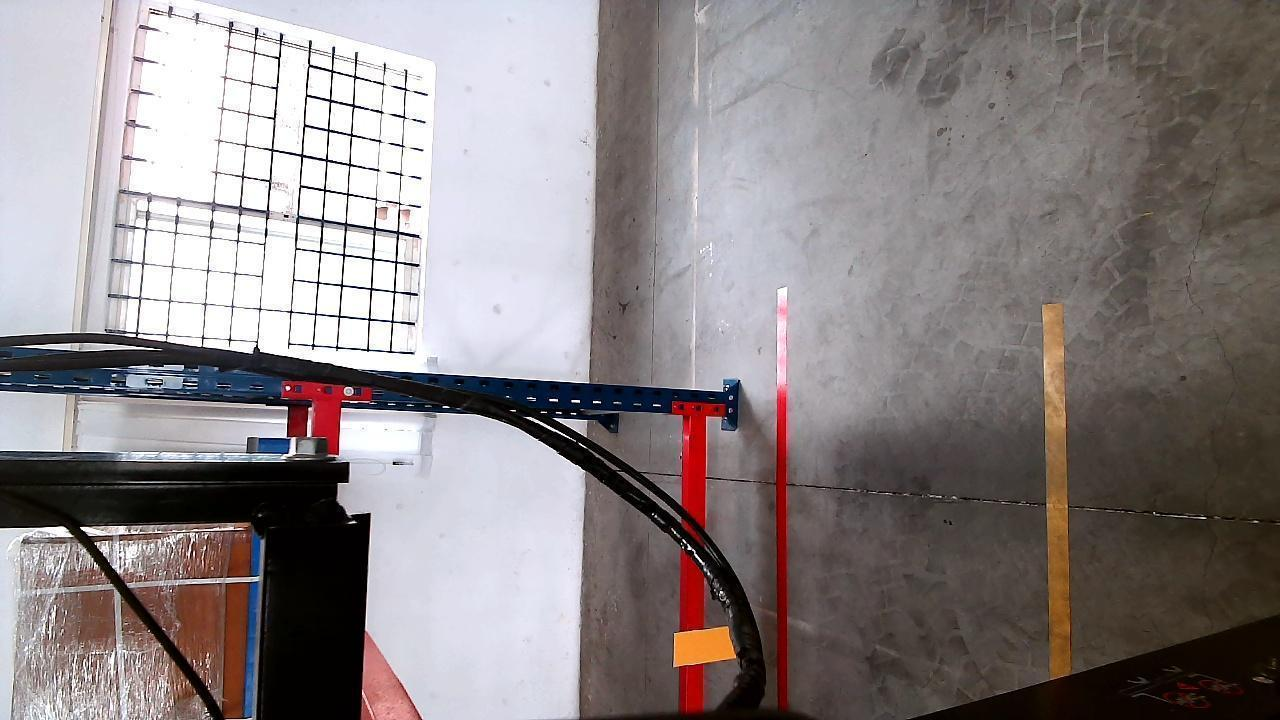red_line: (772, 284, 795, 699)
yellow_line: (1044, 301, 1074, 676)
